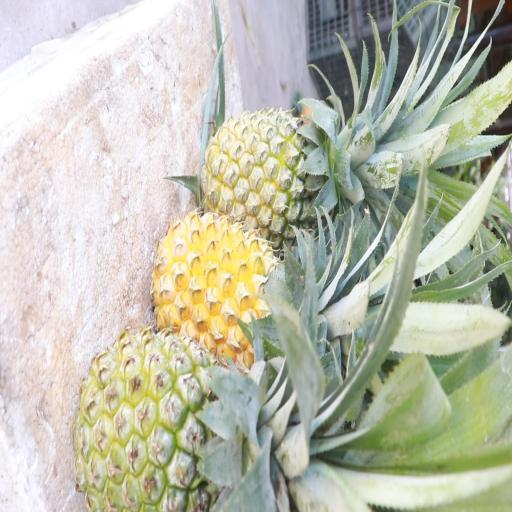------------------------------: (81, 329, 262, 512), (205, 107, 346, 244)
Pineapple - v8 v1: (152, 211, 310, 354)
